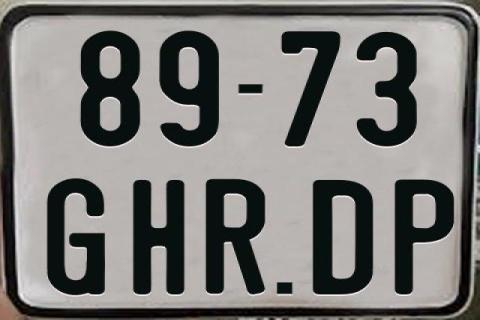0: (356, 31, 420, 149), (80, 30, 140, 150), (279, 29, 341, 145), (159, 29, 220, 145)
D: (311, 180, 373, 298)
G: (46, 176, 104, 297)
H: (133, 179, 186, 296)
P: (395, 180, 456, 298)
R: (205, 178, 266, 298)
